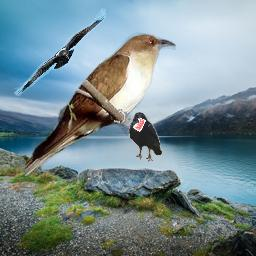Crow: (13, 8, 108, 96), (129, 112, 162, 162)
Cuckoo: (25, 32, 176, 178)
